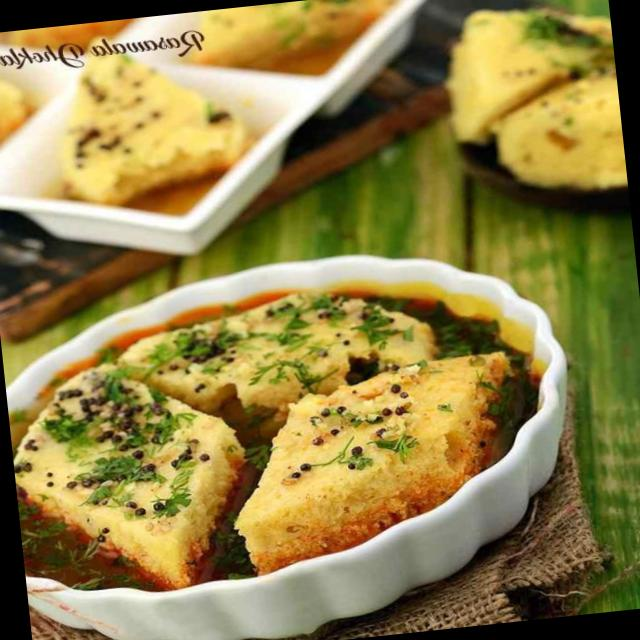dhokla: (13, 270, 513, 617), (20, 25, 321, 202), (459, 0, 610, 187)
